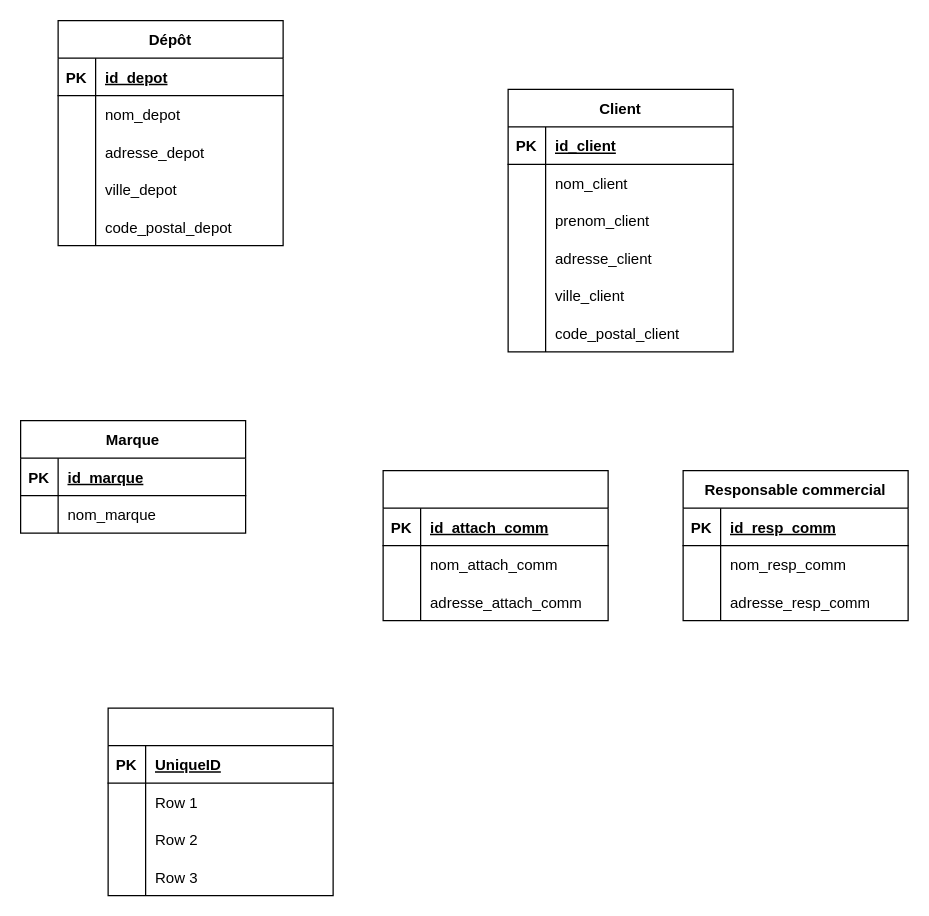
Image size: 929x916. Some labels were removed from this diagram. The shapes that lost their labels are listed below. From the top down, each one's box as (x1, y1, x2, y2) in pixels, then its label:
(382, 469, 608, 621): Attaché Commercial
(107, 707, 333, 896): Table
